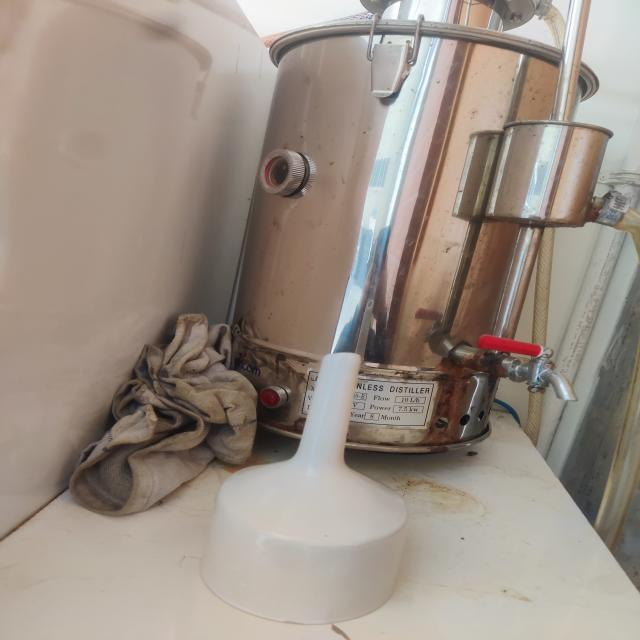Buchner_Funnel: (176, 328, 440, 640)
